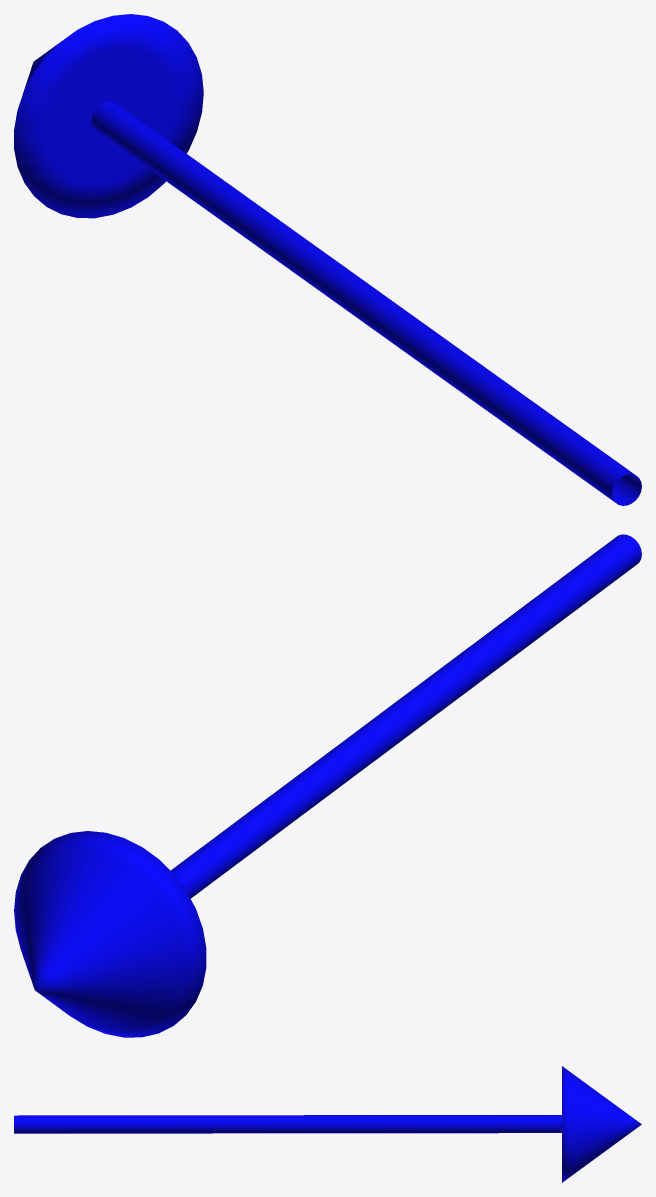
Rendered from zShift.obj.
3 renders of one model, top to bottom at view 1: azimuth 30°, elevation 25°; view 2: azimuth 150°, elevation 25°; view 3: azimuth 270°, elevation 25°, orthographic. The views are drawn at different scales.
Bounding box in the file's own units: 14.85 × 14.87 × 79.81.
